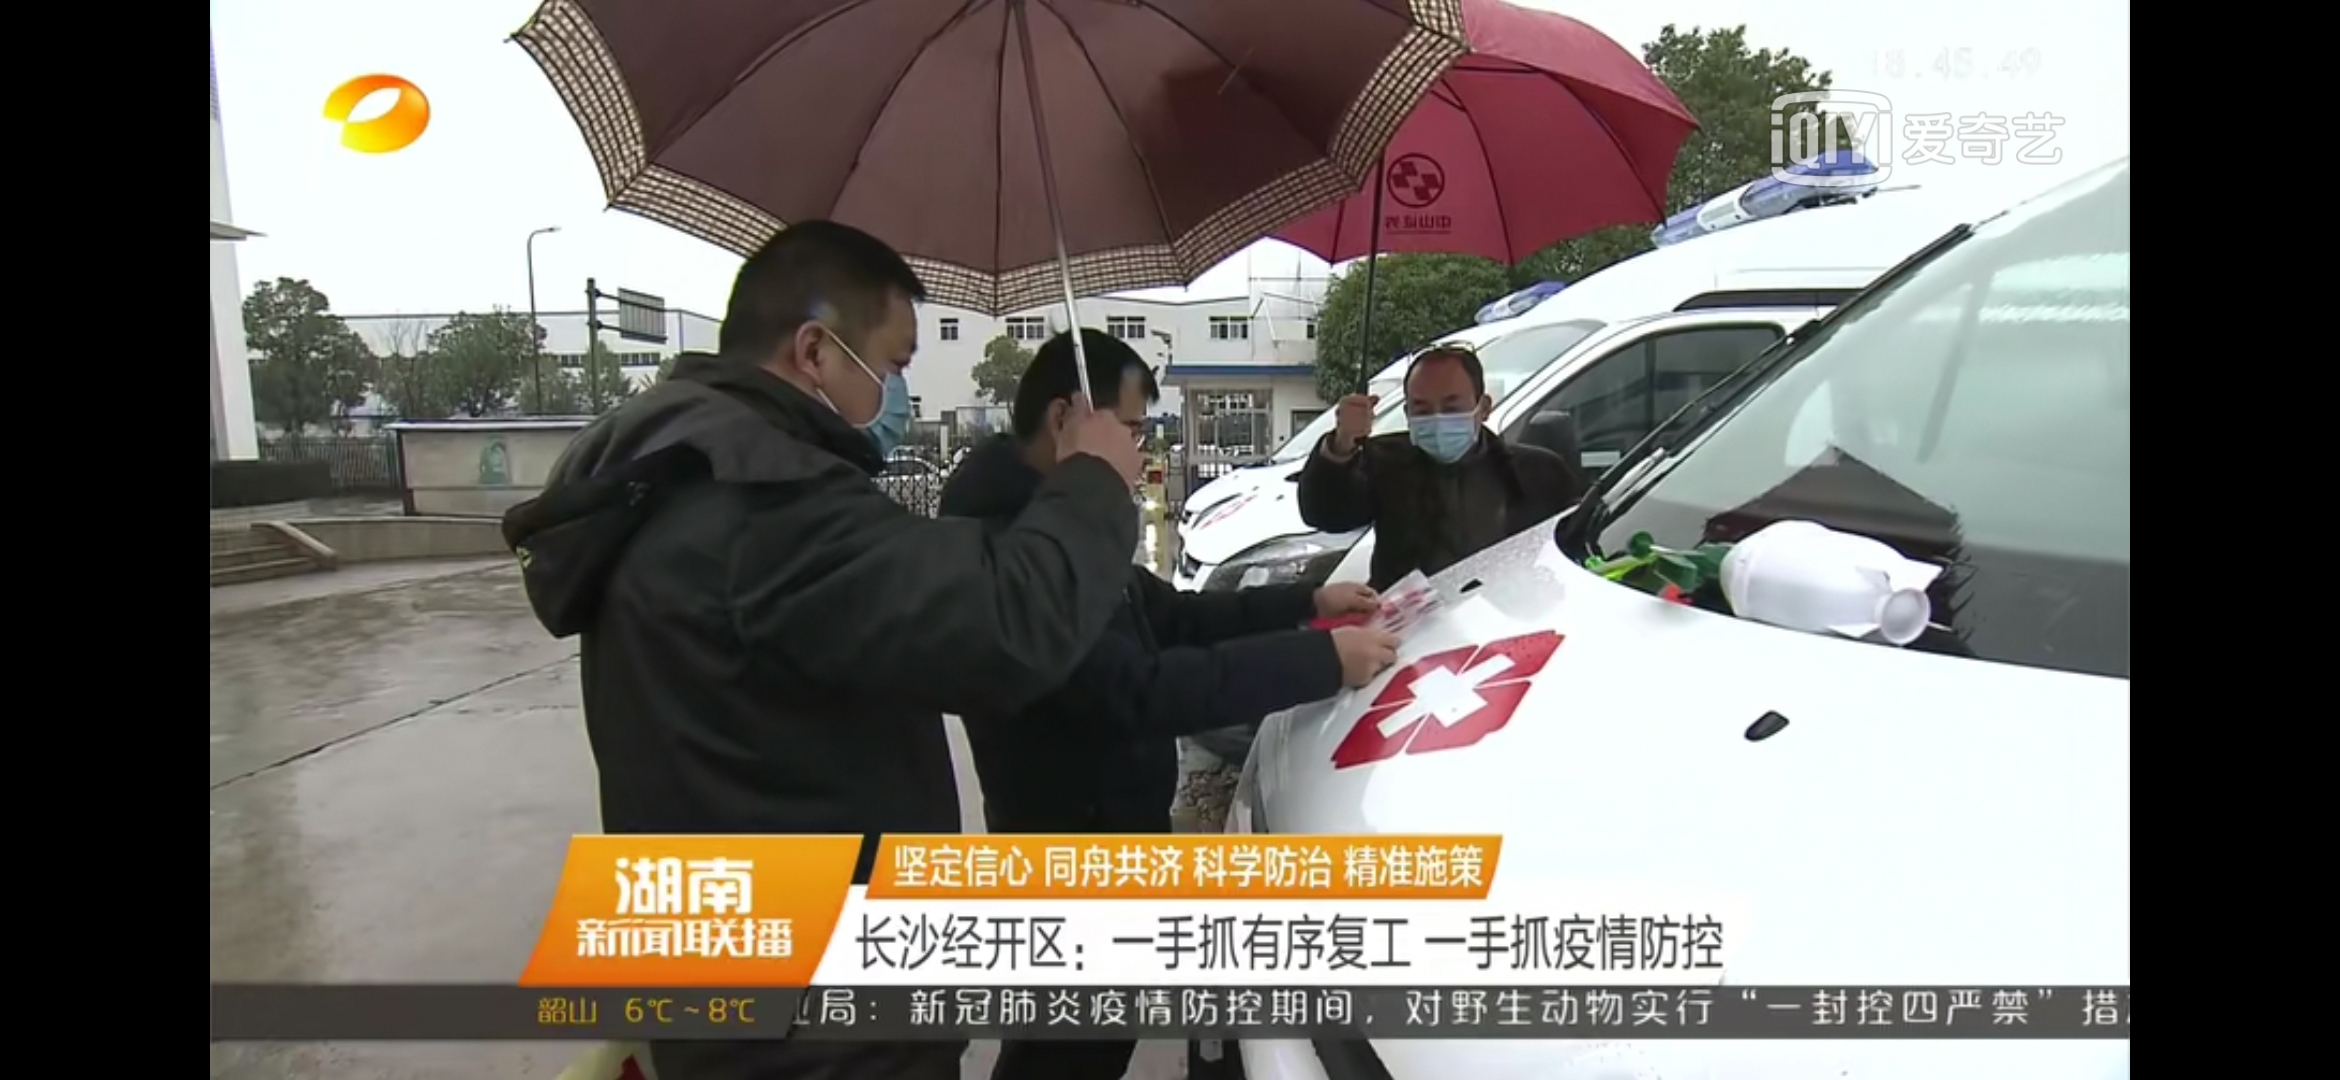correctlyWear: (792, 297, 922, 464), (1400, 374, 1494, 462)
